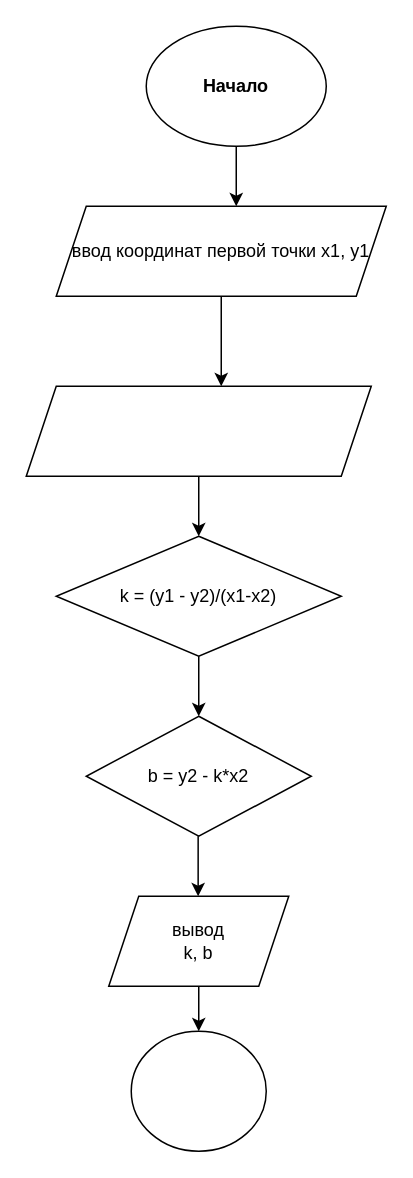
Some shapes in this 413 by 1178 pixel diagram are drawn without their labels. Each missing label, with the centre of its shape:
"ввод координат второй точки x2, y2" goes at (x=198, y=430).
"конец" goes at (x=198, y=1090).
